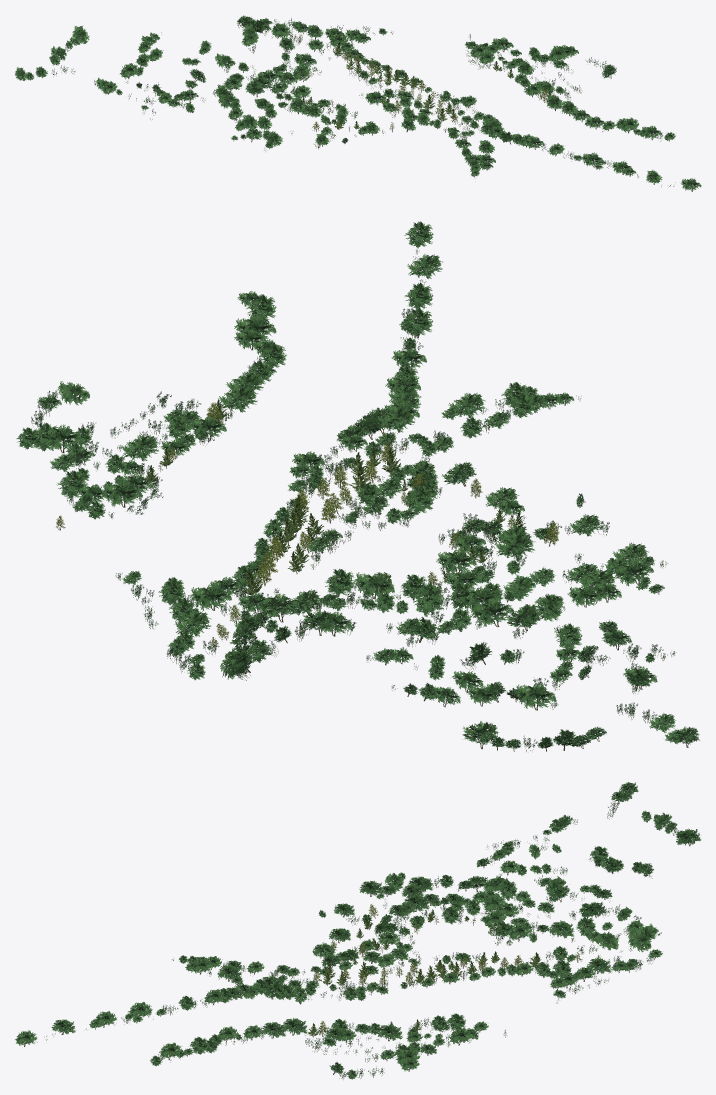
Rendered from jingling-tree.glb.
The picture shows the model from 3 angles, top to bottom: view 1: azimuth 30°, elevation 25°; view 2: azimuth 150°, elevation 25°; view 3: azimuth 270°, elevation 25°; orthographic projection. The views are drawn at different scales.
Size of the model in its own units: 446 by 29.24 by 481.
9 materials, 9 textured.
